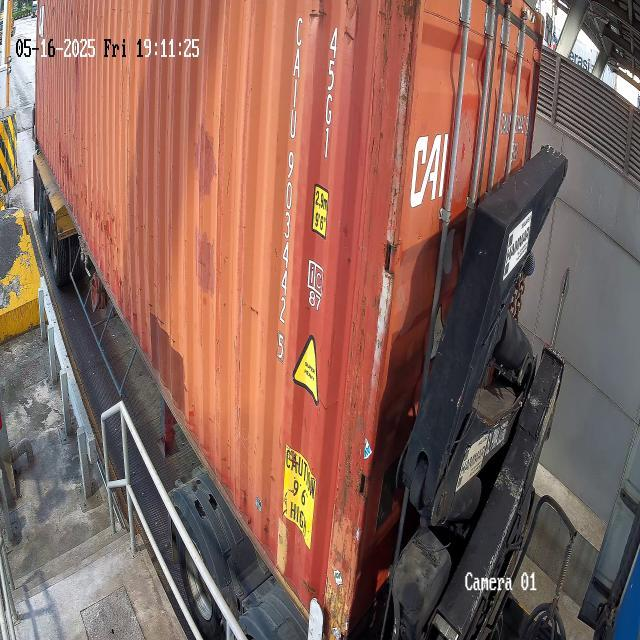ISO: (313, 27, 353, 159)
container_number: (262, 18, 308, 370)
